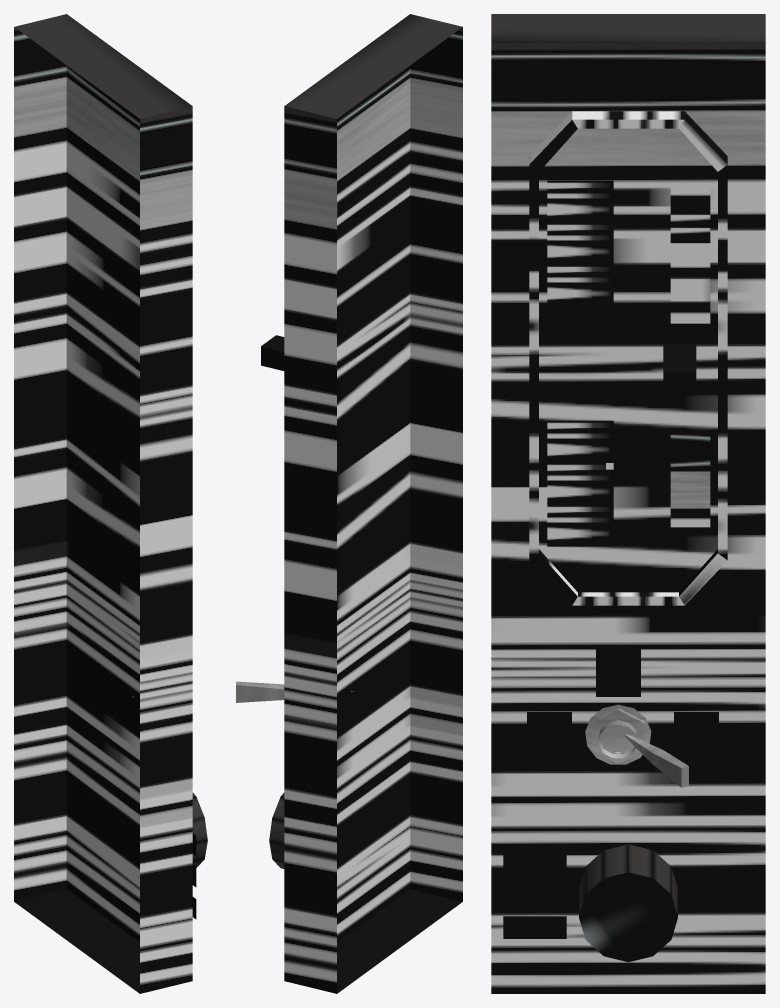
3 renders of one model, left to right at view 1: azimuth 30°, elevation 25°; view 2: azimuth 150°, elevation 25°; view 3: azimuth 270°, elevation 25°, orthographic. The views are drawn at different scales.
Visible parts, largest first — view 1: base, SourceSelectorKnob; view 2: base, PowerSwitch.Lever, SourceSelectorKnob, ModeSwitch; view 3: base, Frame, SourceSelectorKnob, Miles, PowerSwitch.Base, Left.1, Left.100, Right.1, Right.10, Right.100, Left.10, Min (+9 smaller).
Boxes of the visible parts, bbox=[...] form: base: bbox=[14, 14, 192, 993]; SourceSelectorKnob: bbox=[192, 792, 207, 867]; base: bbox=[284, 14, 462, 993]; PowerSwitch.Lever: bbox=[236, 681, 353, 702]; SourceSelectorKnob: bbox=[269, 792, 284, 868]; ModeSwitch: bbox=[261, 335, 284, 370]; base: bbox=[491, 14, 765, 993]; Frame: bbox=[529, 111, 727, 605]; SourceSelectorKnob: bbox=[579, 844, 677, 962]; Miles: bbox=[670, 434, 710, 527]; PowerSwitch.Base: bbox=[585, 704, 651, 764]; Left.1: bbox=[547, 420, 613, 462]; Left.100: bbox=[547, 504, 613, 546]; Right.1: bbox=[547, 180, 613, 222]; Right.10: bbox=[547, 222, 613, 264]; Right.100: bbox=[547, 264, 613, 306]; Left.10: bbox=[547, 462, 613, 504]; Min: bbox=[670, 256, 710, 323].
Bounding box in the file's own units: 0.0265 × 0.1587 × 0.0414.
Materials: 3 (2 with a texture image).
